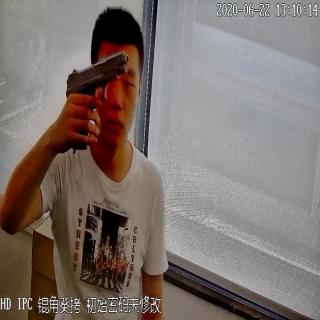gun: (64, 49, 131, 157)
